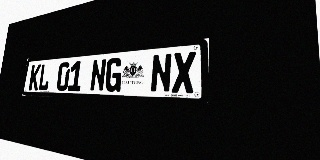0: (56, 62, 71, 91)
1: (68, 61, 83, 91)
G: (104, 57, 123, 92)
K: (28, 64, 41, 90)
L: (38, 63, 51, 91)
N: (150, 53, 172, 93), (89, 59, 107, 92)
X: (172, 51, 196, 93)
